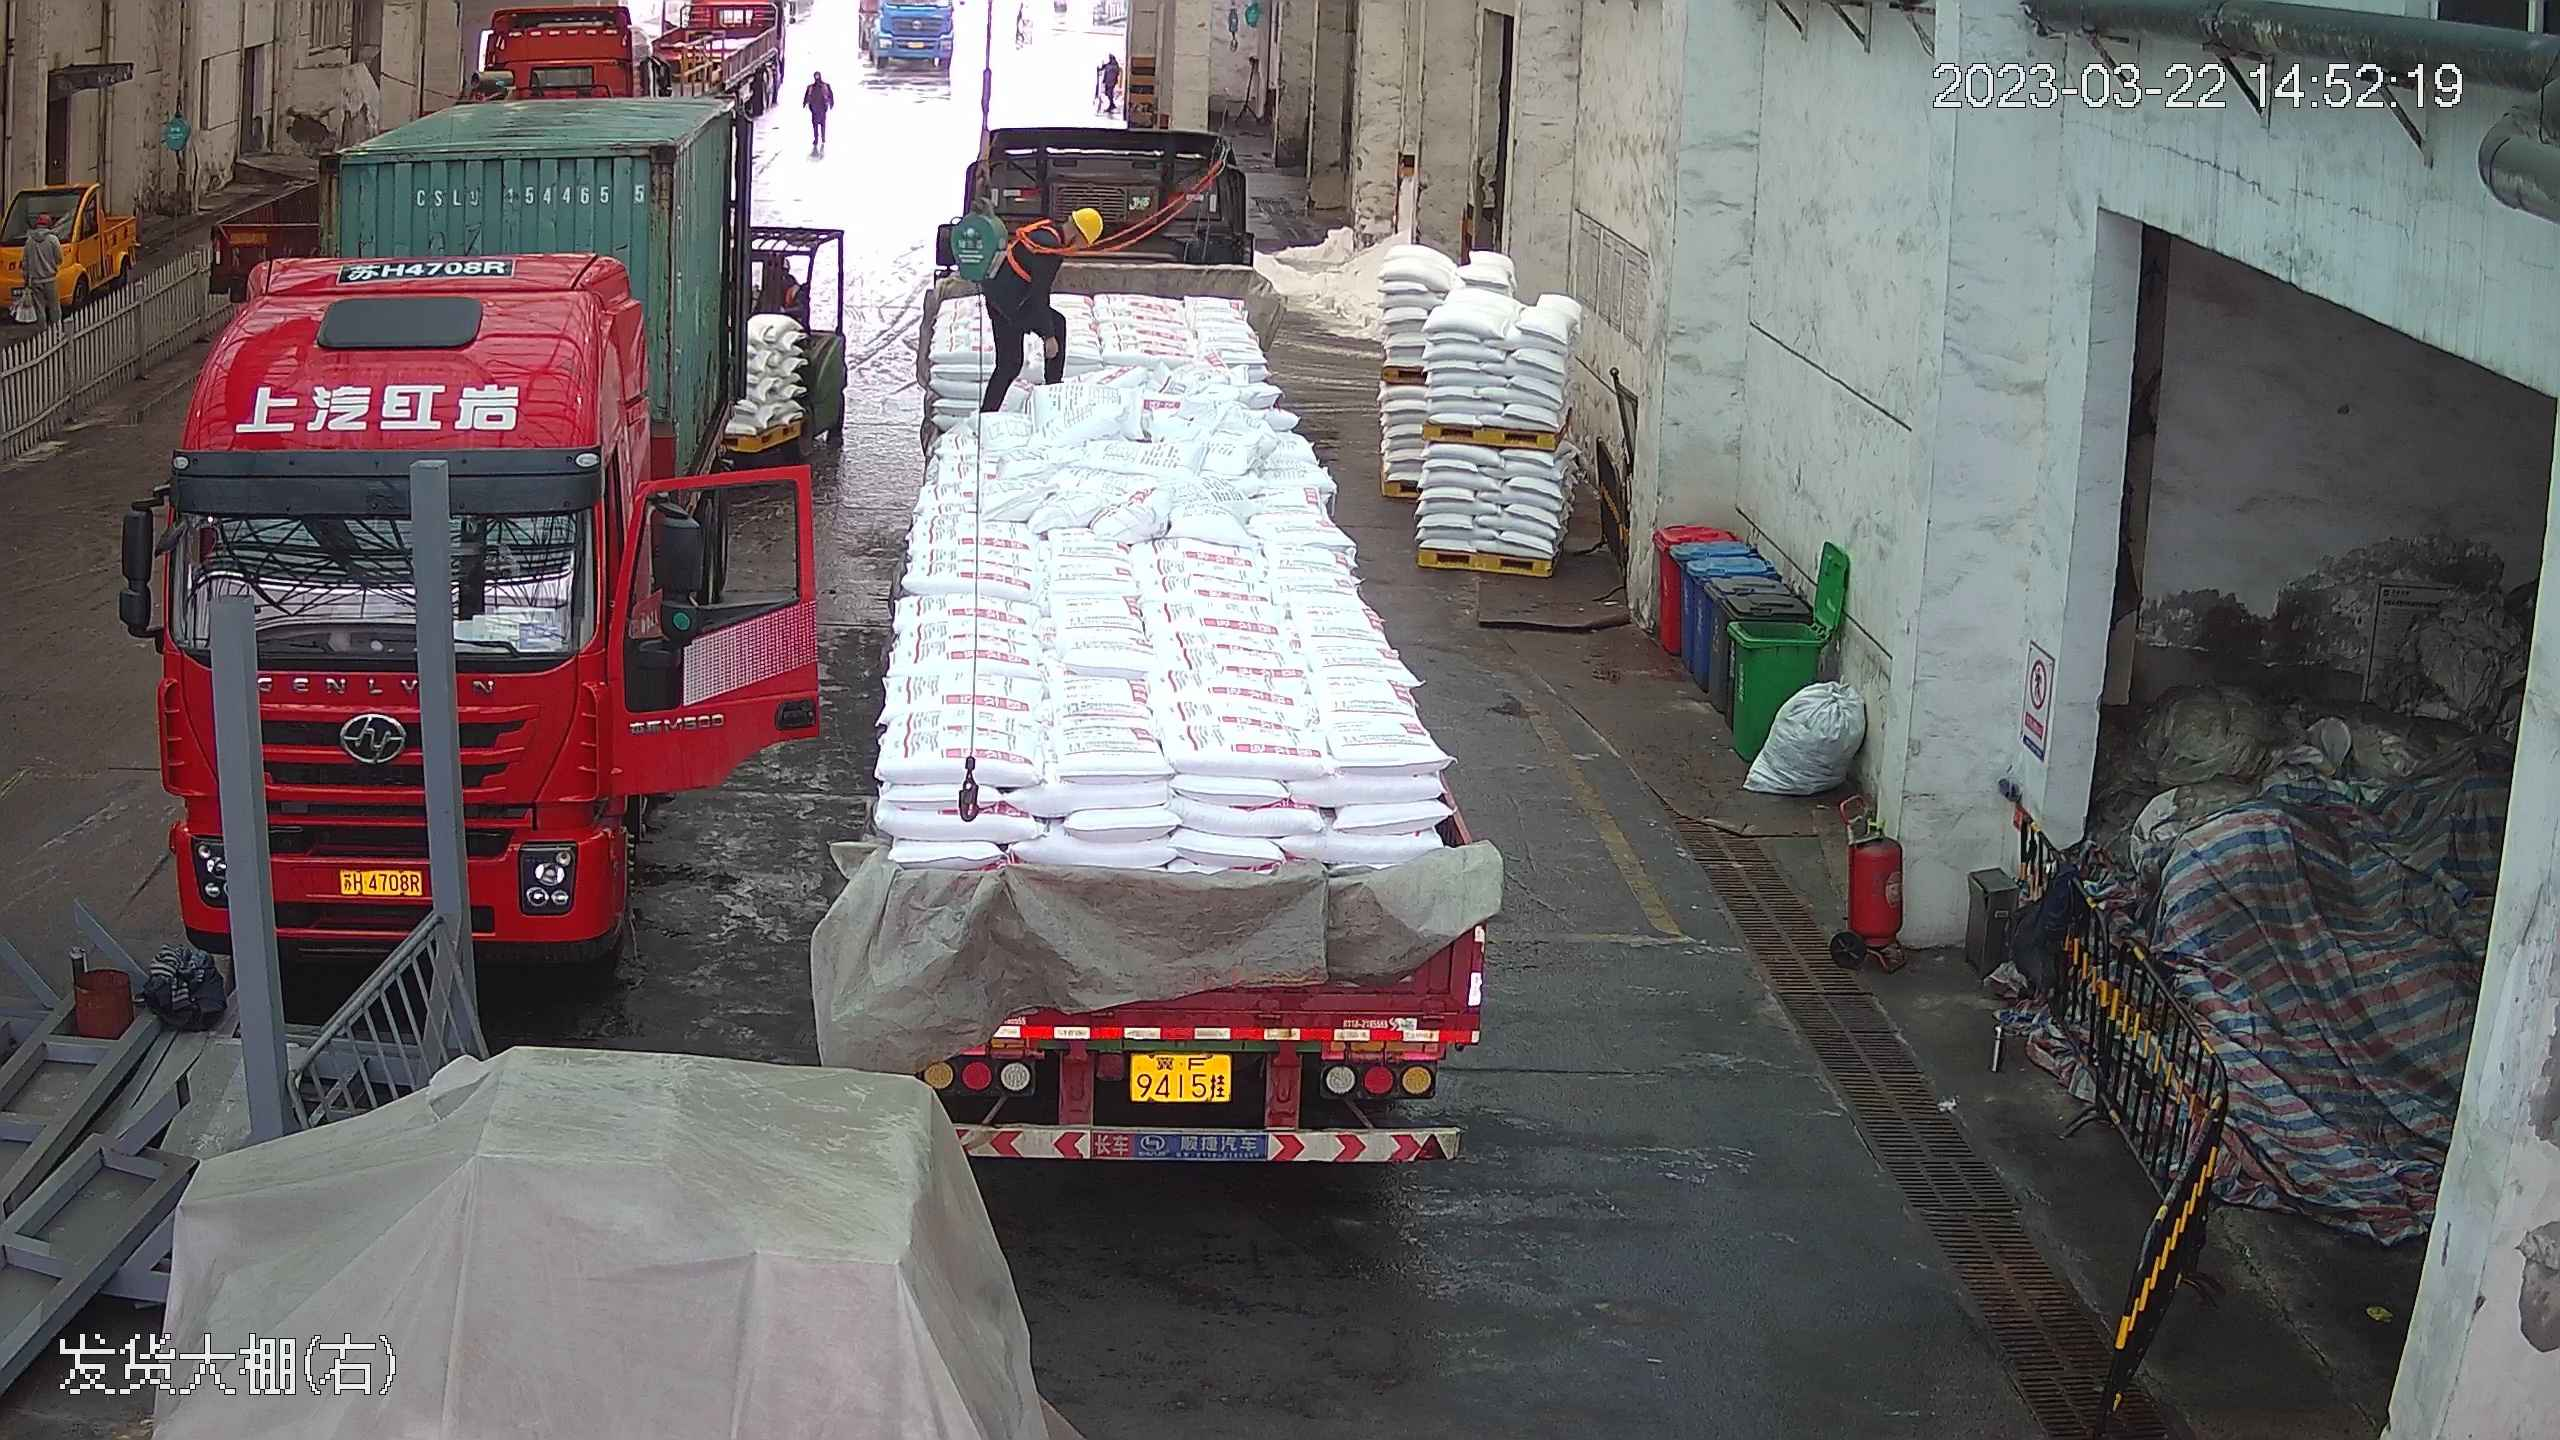belt: (999, 213, 1062, 273)
head: (1027, 202, 1108, 266), (803, 66, 832, 100)
helmet: (1071, 202, 1108, 244), (814, 69, 821, 79)
people: (973, 200, 1109, 416), (800, 60, 838, 160), (1097, 44, 1130, 116)
truck: (837, 74, 1513, 1197), (128, 4, 756, 957)
